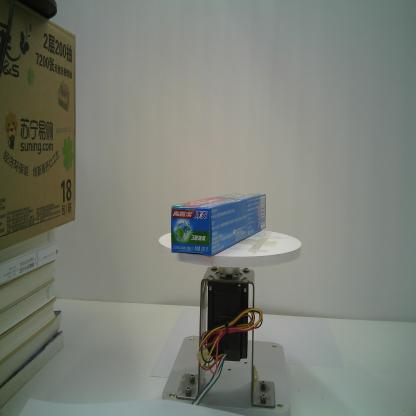Personal Hygiene: (170, 189, 266, 260)
